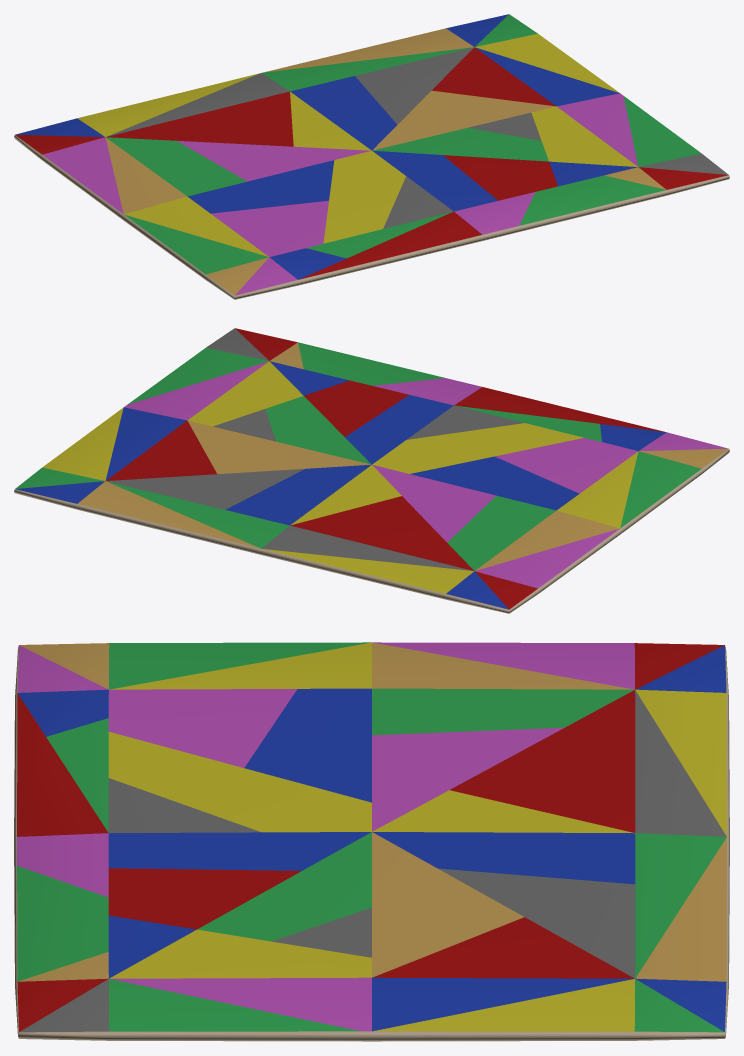
Rendered from rug done.fbx.
3 views of the same model, one above another, from view 1: azimuth 30°, elevation 25°; view 2: azimuth 150°, elevation 25°; view 3: azimuth 270°, elevation 25° (orthographic). The views are drawn at different scales.
Parts seen in each view (by area): view 1: pCube95; view 2: pCube95; view 3: pCube95.
Boxes of the visible parts, bbox=[...] form: pCube95: bbox=[14, 14, 729, 299]; pCube95: bbox=[14, 328, 729, 613]; pCube95: bbox=[14, 642, 729, 1041].
Size of the model in its own units: 3.43 by 0.0824 by 2.65.
